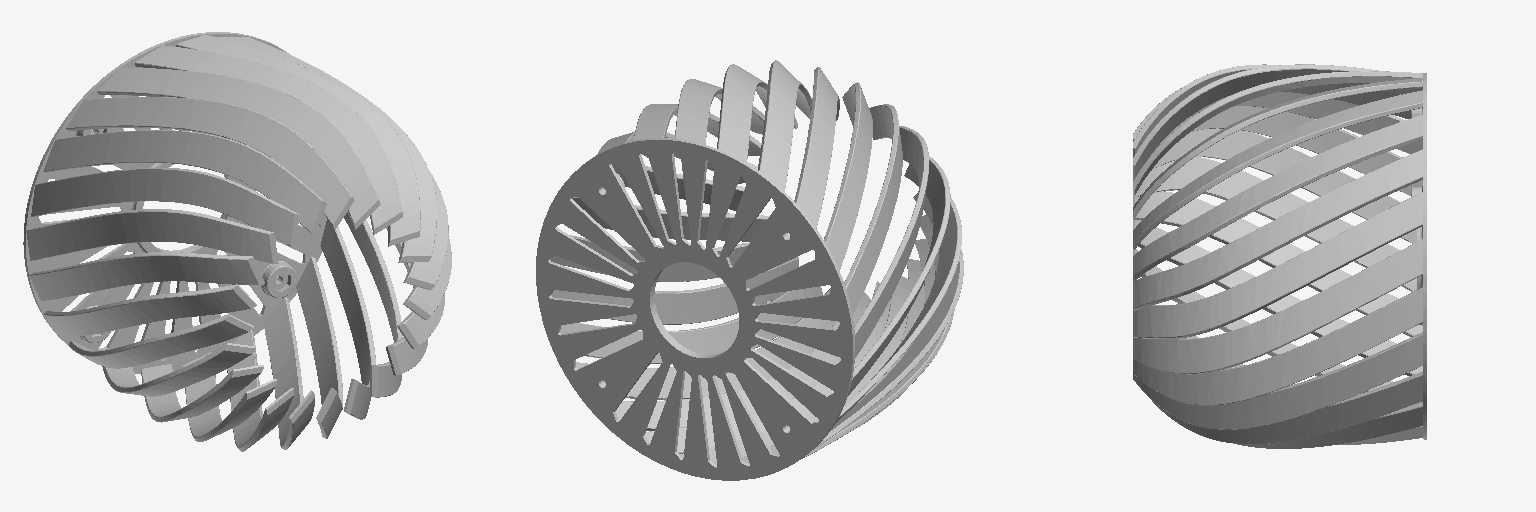
File: turbine.obj
The picture shows the model from 3 angles: view 1: azimuth 30°, elevation 25°; view 2: azimuth 150°, elevation 25°; view 3: azimuth 270°, elevation 25°; orthographic projection.
Parts seen in each view (by area): view 1: Turbine; view 2: Turbine; view 3: Turbine.
Part boxes in pixels (x1,y1,x2,y2): Turbine: (23, 32, 451, 451); Turbine: (536, 60, 963, 480); Turbine: (1133, 64, 1426, 448).
Size of the model in its own units: 130 by 130 by 99.53.